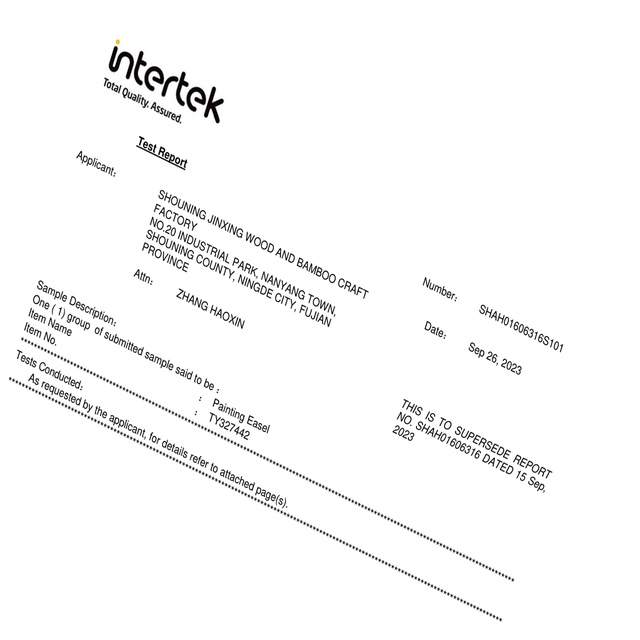intertek: (105, 34, 228, 126)
